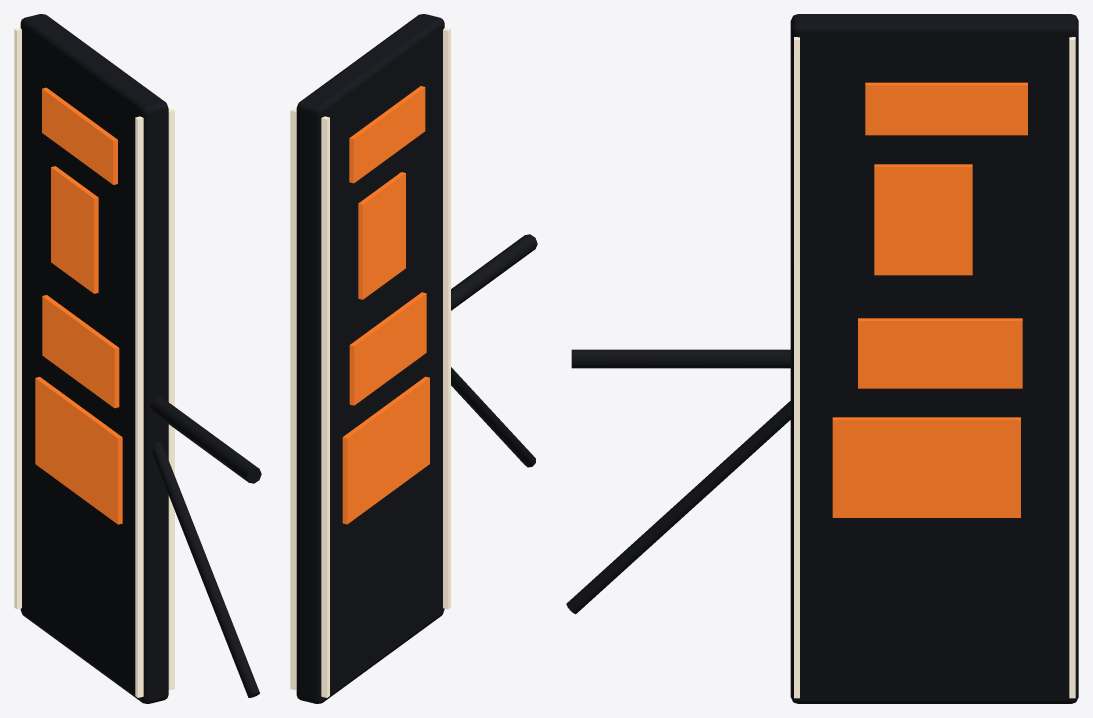
Rendered from neon_sign_a.glb.
3 views of the same model, side by side, from view 1: azimuth 30°, elevation 25°; view 2: azimuth 150°, elevation 25°; view 3: azimuth 270°, elevation 25° (orthographic). The views are drawn at different scales.
Parts seen in each view (by area): view 1: NeonSign; view 2: NeonSign; view 3: NeonSign.
Part boxes in pixels (x1,y1,x2,y2): NeonSign: (14,14,261,703); NeonSign: (290,14,537,703); NeonSign: (566,14,1078,703).
Bounding box in the file's own units: 0.194 × 3 × 2.05.
